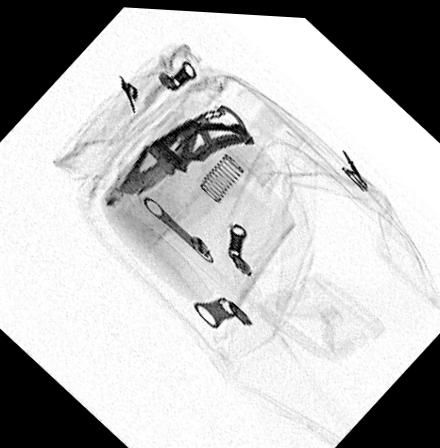Knife: (115, 100, 256, 195)
